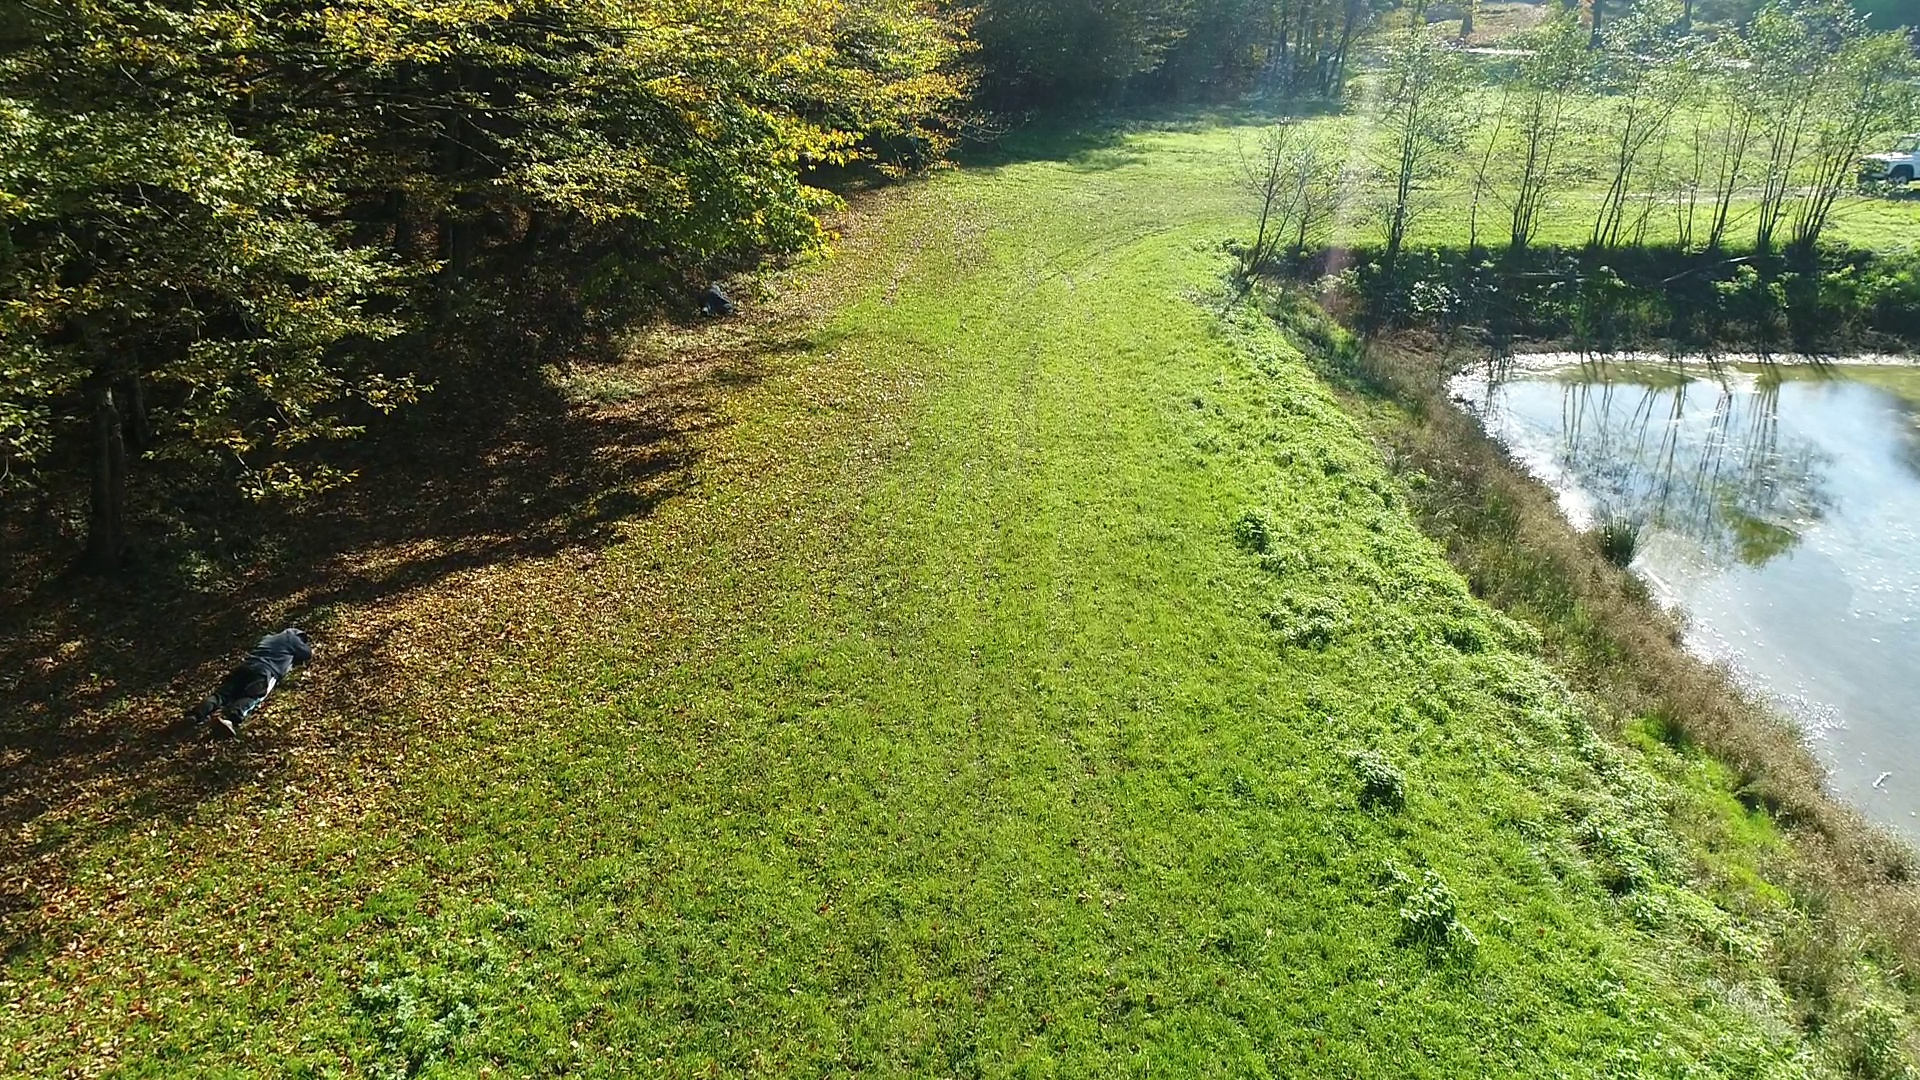person: (178, 627, 311, 737), (701, 283, 734, 315), (901, 122, 919, 173)
